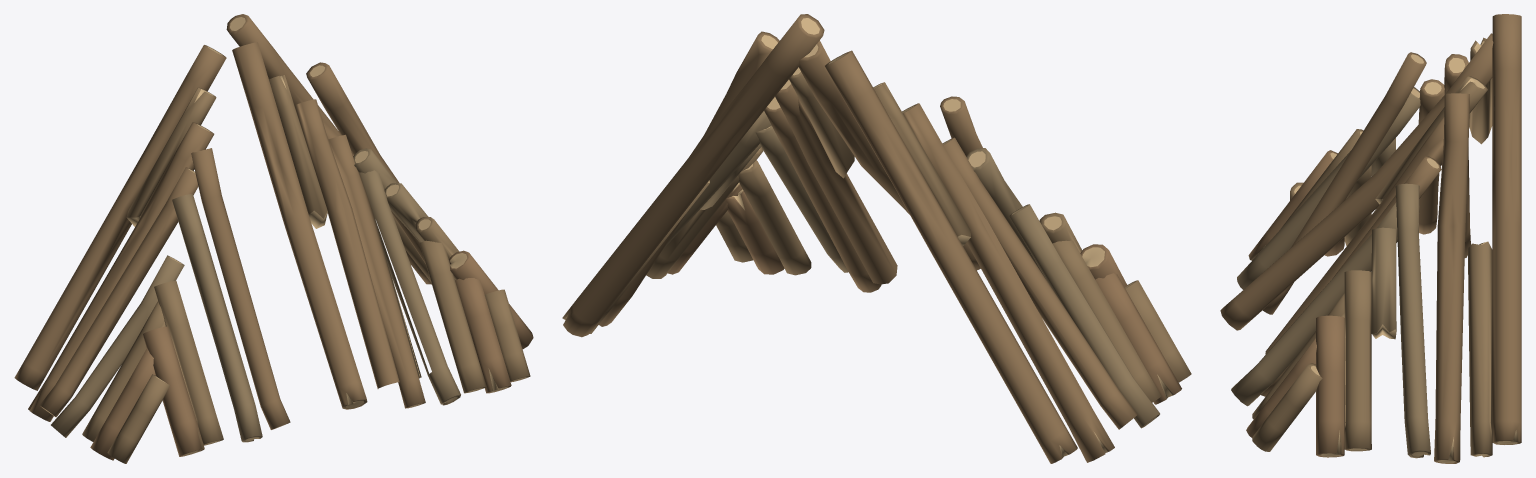
Rendered from rpgpp_av_roof_01_6x5x3_end_02.gltf.
3 views of the same model, side by side, from view 1: azimuth 30°, elevation 25°; view 2: azimuth 150°, elevation 25°; view 3: azimuth 270°, elevation 25° (orthographic). The views are drawn at different scales.
Visible parts, largest first — view 1: rpgpp_av_roof_01_6x5x3_end_02; view 2: rpgpp_av_roof_01_6x5x3_end_02; view 3: rpgpp_av_roof_01_6x5x3_end_02.
Part boxes in pixels (x1,y1,x2,y2): rpgpp_av_roof_01_6x5x3_end_02: [14, 14, 533, 463]; rpgpp_av_roof_01_6x5x3_end_02: [562, 14, 1191, 463]; rpgpp_av_roof_01_6x5x3_end_02: [1220, 14, 1521, 463].
Size of the model in its own units: 0.0838 by 0.0583 by 0.0439.
1 material, 1 textured.
